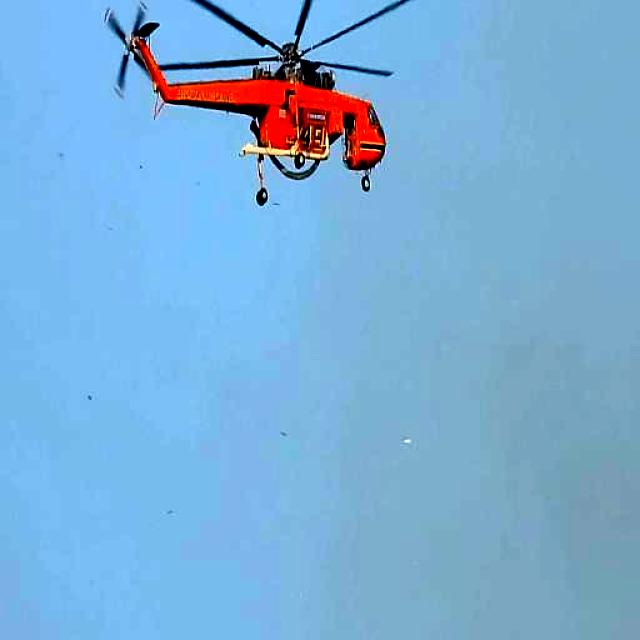drone: (102, 0, 431, 224)
